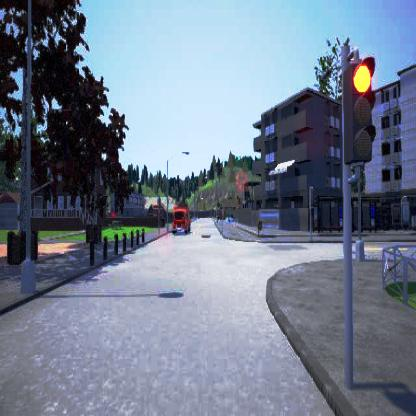vehicle: (172, 206, 190, 233)
